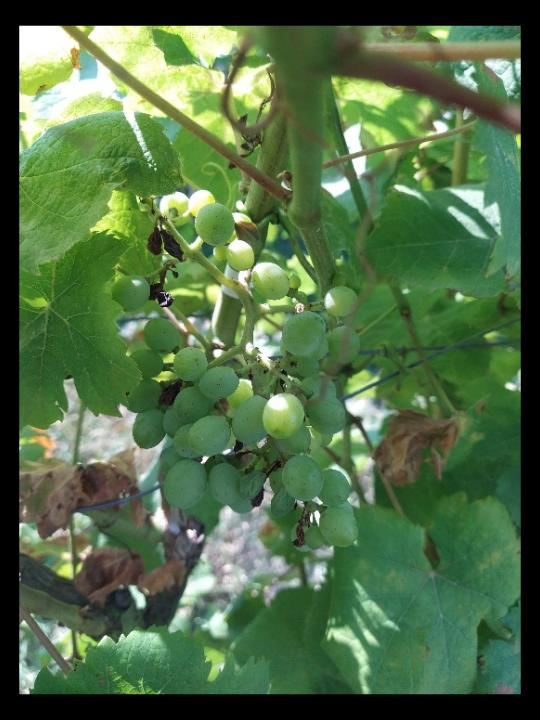grape: (110, 190, 364, 559)
